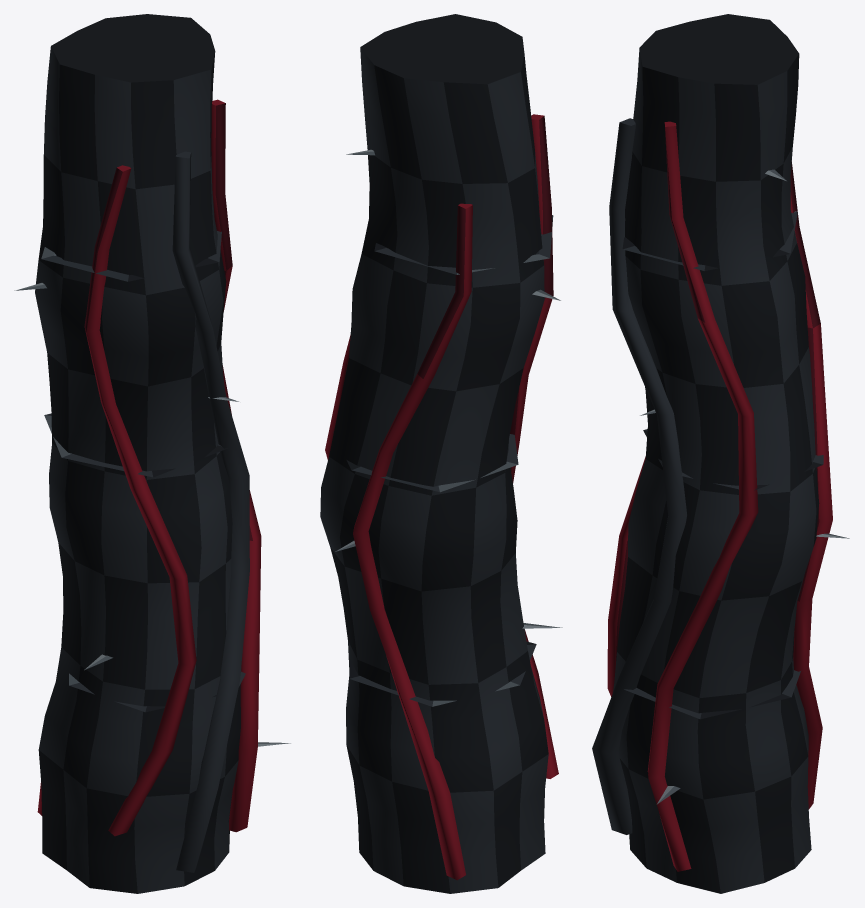
The model's file is tendril_segment.obj.
3 views of the same model, side by side, from view 1: azimuth 30°, elevation 25°; view 2: azimuth 150°, elevation 25°; view 3: azimuth 270°, elevation 25° (orthographic).
Visible parts, largest first — view 1: tendril_segment; view 2: tendril_segment; view 3: tendril_segment.
Boxes of the visible parts, bbox=[...] form: tendril_segment: bbox=[14, 14, 290, 893]; tendril_segment: bbox=[320, 14, 562, 893]; tendril_segment: bbox=[592, 14, 849, 893].
Size of the model in its own units: 0.3118 by 1 by 0.2936.
